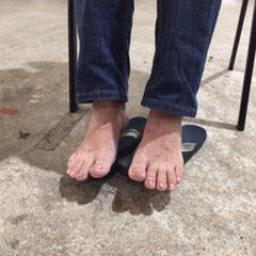Front View -Both Feet-: (57, 67, 210, 211)
